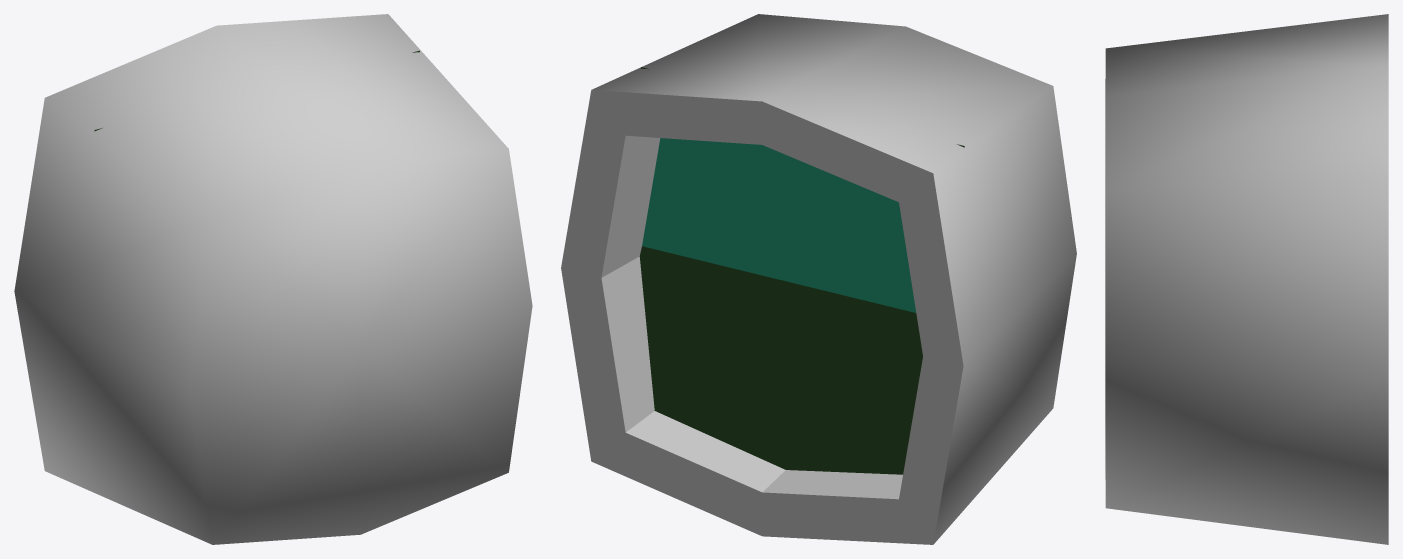
File: Bowl 01.FBX
3 renders of one model, left to right at view 1: azimuth 30°, elevation 25°; view 2: azimuth 150°, elevation 25°; view 3: azimuth 270°, elevation 25°, orthographic.
Parts seen in each view (by area): view 1: Bowl 01; view 2: Bowl 01, Bowl 01 Food 02, Bowl 01 Food 01; view 3: Bowl 01.
Part boxes in pixels (left/top/right/bottom): Bowl 01: left=14, top=14, right=532, bottom=544; Bowl 01: left=561, top=14, right=1076, bottom=544; Bowl 01 Food 02: left=639, top=67, right=964, bottom=474; Bowl 01 Food 01: left=642, top=138, right=916, bottom=312; Bowl 01: left=1105, top=14, right=1388, bottom=544.
Bounding box in the file's own units: 29.37 × 30.32 × 18.16.
